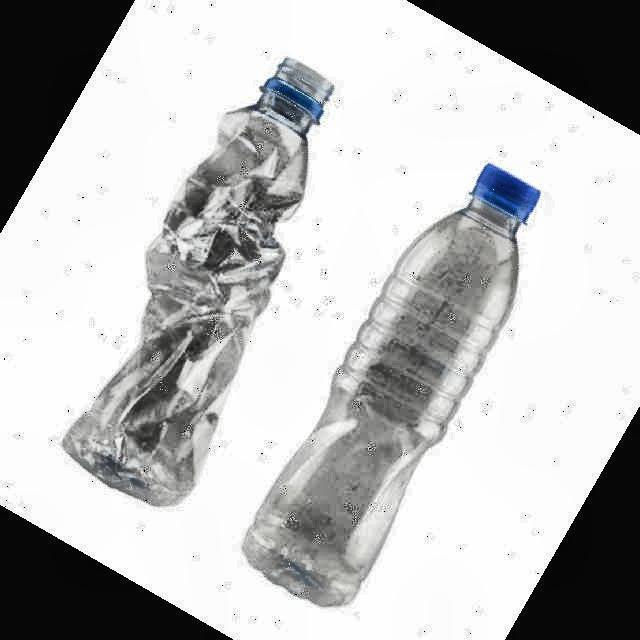plastic: (244, 166, 539, 606), (62, 59, 332, 506)
